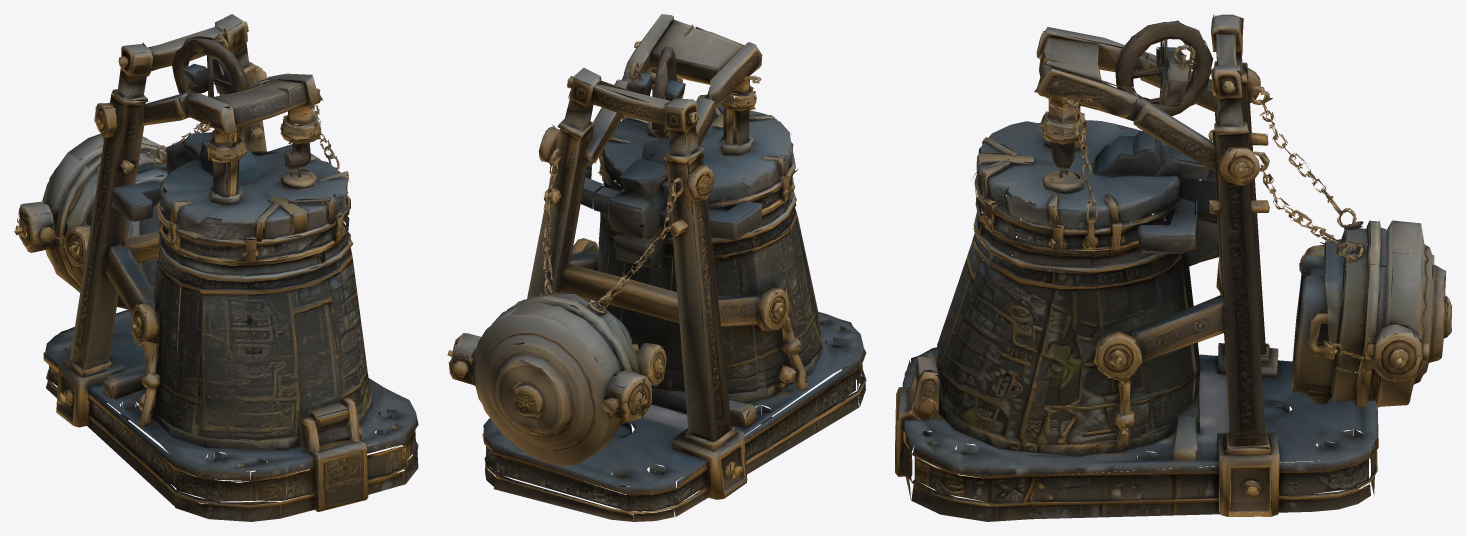
Rendered from ch2_hydraulic_counterweight_machine_LOD1.glb.
3 views of the same model, side by side, from view 1: azimuth 30°, elevation 25°; view 2: azimuth 150°, elevation 25°; view 3: azimuth 270°, elevation 25° (orthographic). The views are drawn at different scales.
Visible parts, largest first — view 1: tripo_node_0e10ad17-c052-4b98-85d4-967bdcf32665; view 2: tripo_node_0e10ad17-c052-4b98-85d4-967bdcf32665; view 3: tripo_node_0e10ad17-c052-4b98-85d4-967bdcf32665.
Boxes of the visible parts, <box> form: tripo_node_0e10ad17-c052-4b98-85d4-967bdcf32665: <box>14,14,418,521</box>; tripo_node_0e10ad17-c052-4b98-85d4-967bdcf32665: <box>447,14,866,521</box>; tripo_node_0e10ad17-c052-4b98-85d4-967bdcf32665: <box>895,14,1451,521</box>.
Size of the model in its own units: 0.5609 by 0.8559 by 0.9985.
1 material, 1 textured.
